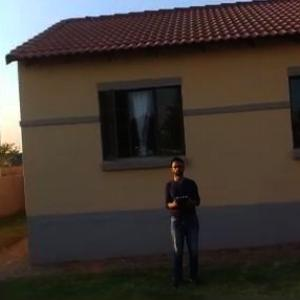follow: (164, 150, 208, 292)
